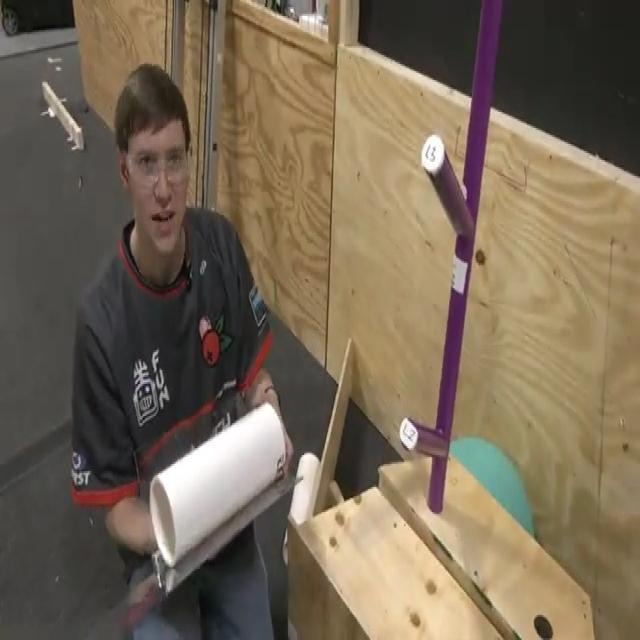Coral: (148, 398, 286, 569)
